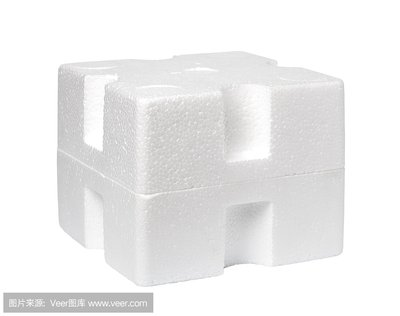5/可回收垃圾/泡沫: (57, 51, 344, 286)
